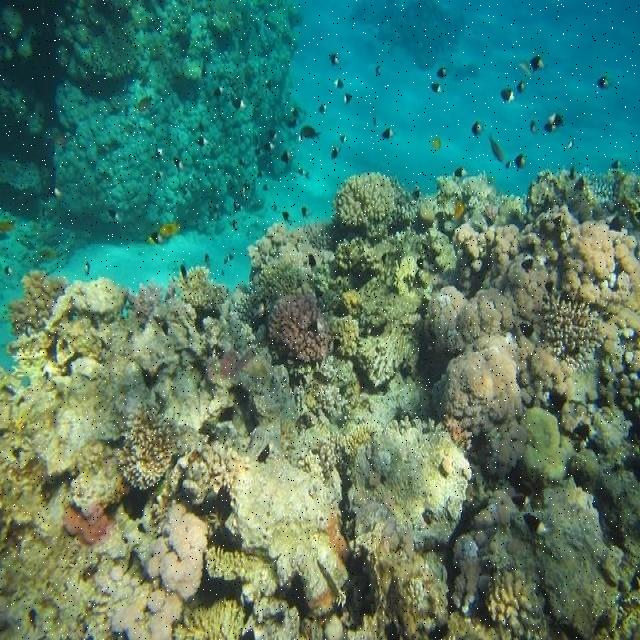reefs: (0, 160, 639, 639)
